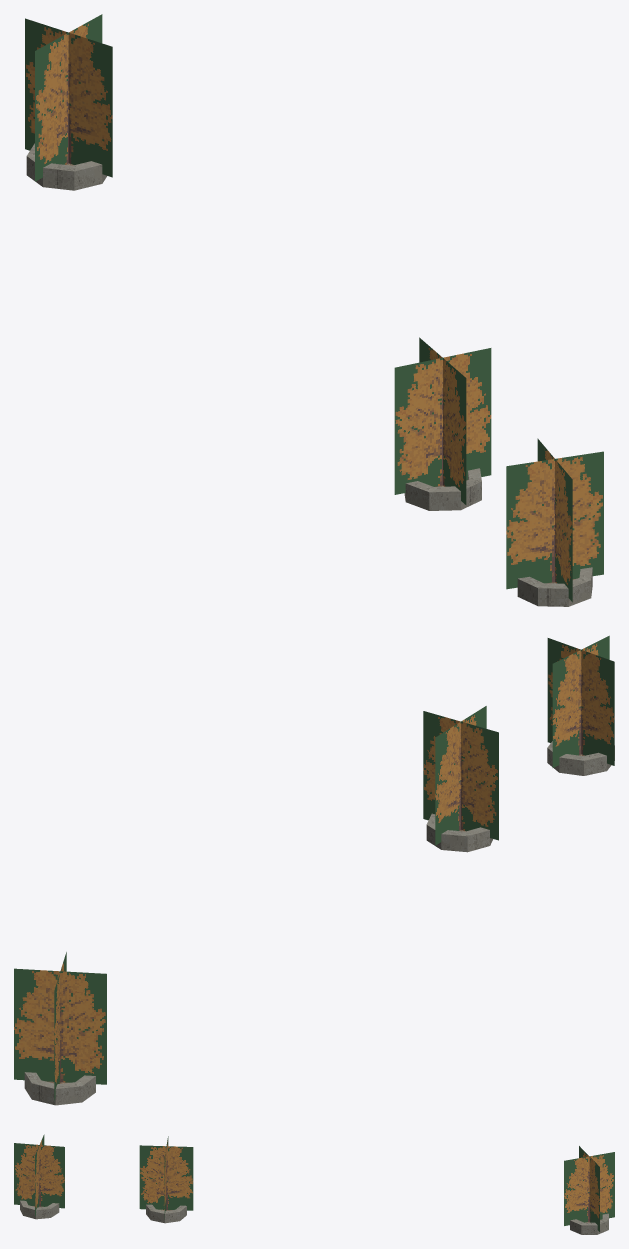
File: procgen-procpain-tree-park-large-xm3zm1.obj
3 renders of one model, top to bottom at view 1: azimuth 30°, elevation 25°; view 2: azimuth 150°, elevation 25°; view 3: azimuth 270°, elevation 25°, orthographic. The views are drawn at different scales.
Bounding box in the file's own units: 8.5 × 7.5 × 58.2.
